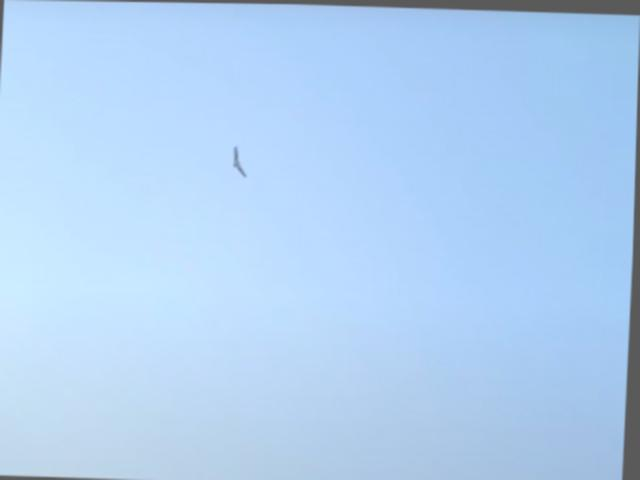iha: (230, 143, 248, 176)
